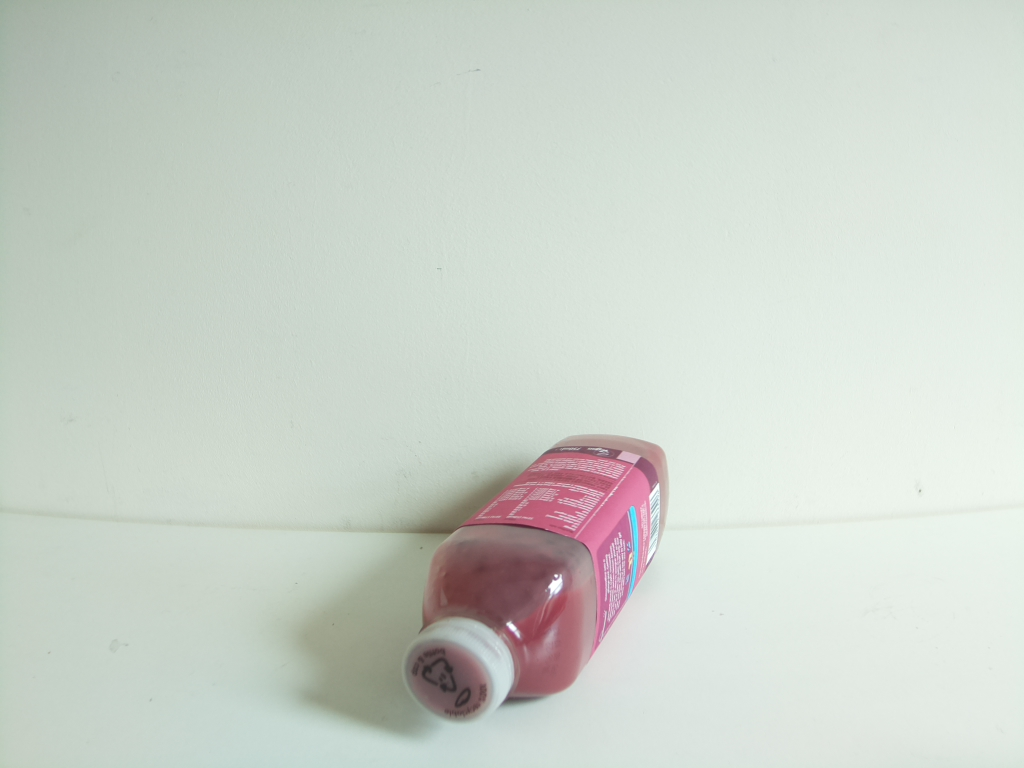juice: (403, 433, 675, 728)
